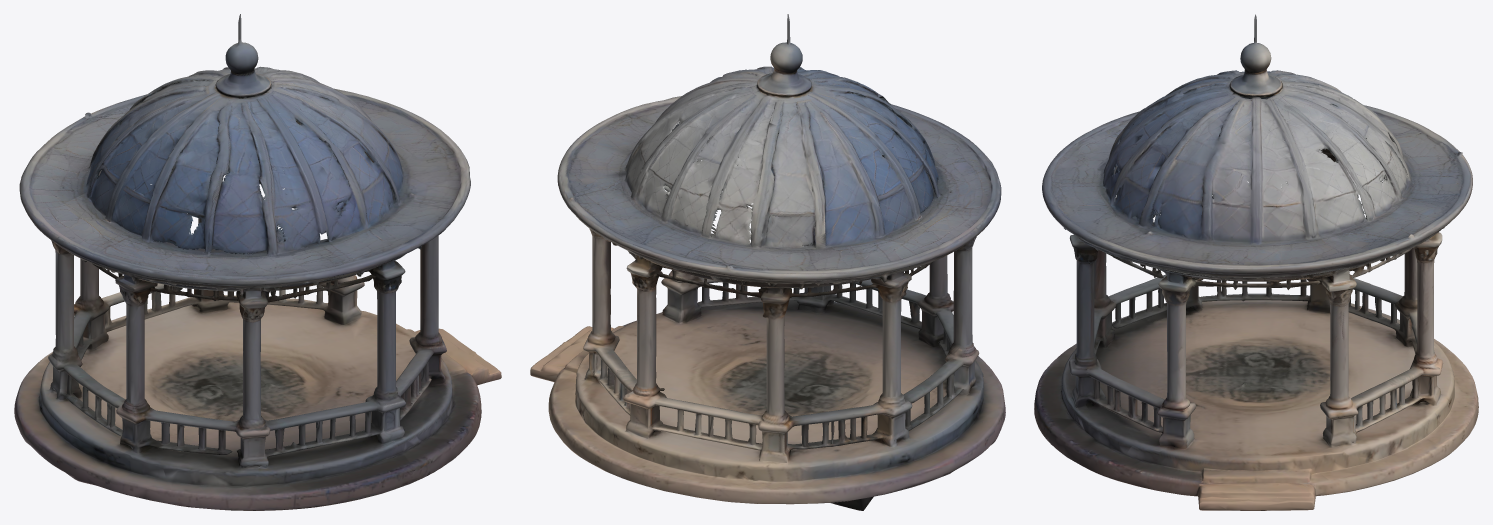
The model's file is plaza-bandstand.glb.
3 views of the same model, side by side, from view 1: azimuth 30°, elevation 25°; view 2: azimuth 150°, elevation 25°; view 3: azimuth 270°, elevation 25° (orthographic). The views are drawn at different scales.
Visible parts, largest first — view 1: tripo_node_41a5b09e-ab5e-42c1-90c4-7b49b00cd326; view 2: tripo_node_41a5b09e-ab5e-42c1-90c4-7b49b00cd326; view 3: tripo_node_41a5b09e-ab5e-42c1-90c4-7b49b00cd326.
Boxes of the visible parts, x1=… form: tripo_node_41a5b09e-ab5e-42c1-90c4-7b49b00cd326: x1=14, y1=14, x2=501, y2=510; tripo_node_41a5b09e-ab5e-42c1-90c4-7b49b00cd326: x1=530, y1=14, x2=1005, y2=510; tripo_node_41a5b09e-ab5e-42c1-90c4-7b49b00cd326: x1=1034, y1=14, x2=1478, y2=510.
Bounding box in the file's own units: 4.89 × 5 × 4.57.
Materials: 1 (1 with a texture image).
